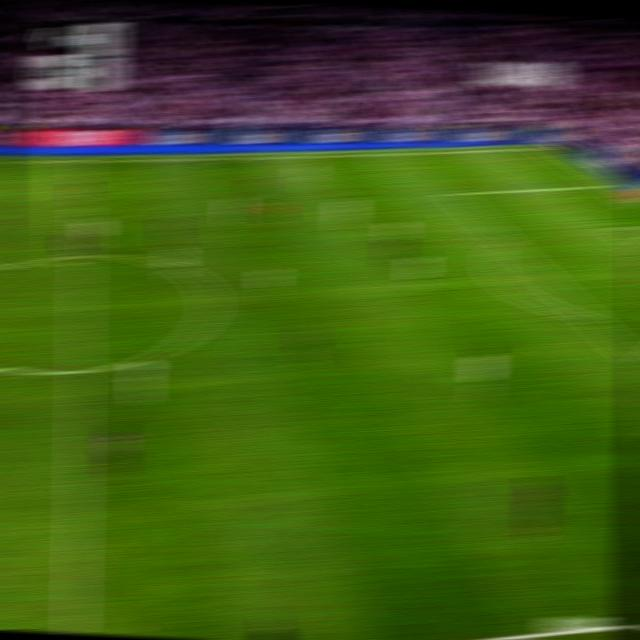bigarea_top_inner: (443, 185, 464, 200)
bottom_arc_area_intersection: (575, 307, 600, 325)
corner: (530, 141, 553, 152)
halfcircle_bottom: (66, 355, 93, 383)
halfcircle_top: (69, 243, 94, 265)
midline_top_intersection: (71, 154, 93, 167)
smallarea_top_inner: (602, 219, 623, 233)
top_arc_area_intersection: (494, 232, 516, 248)
